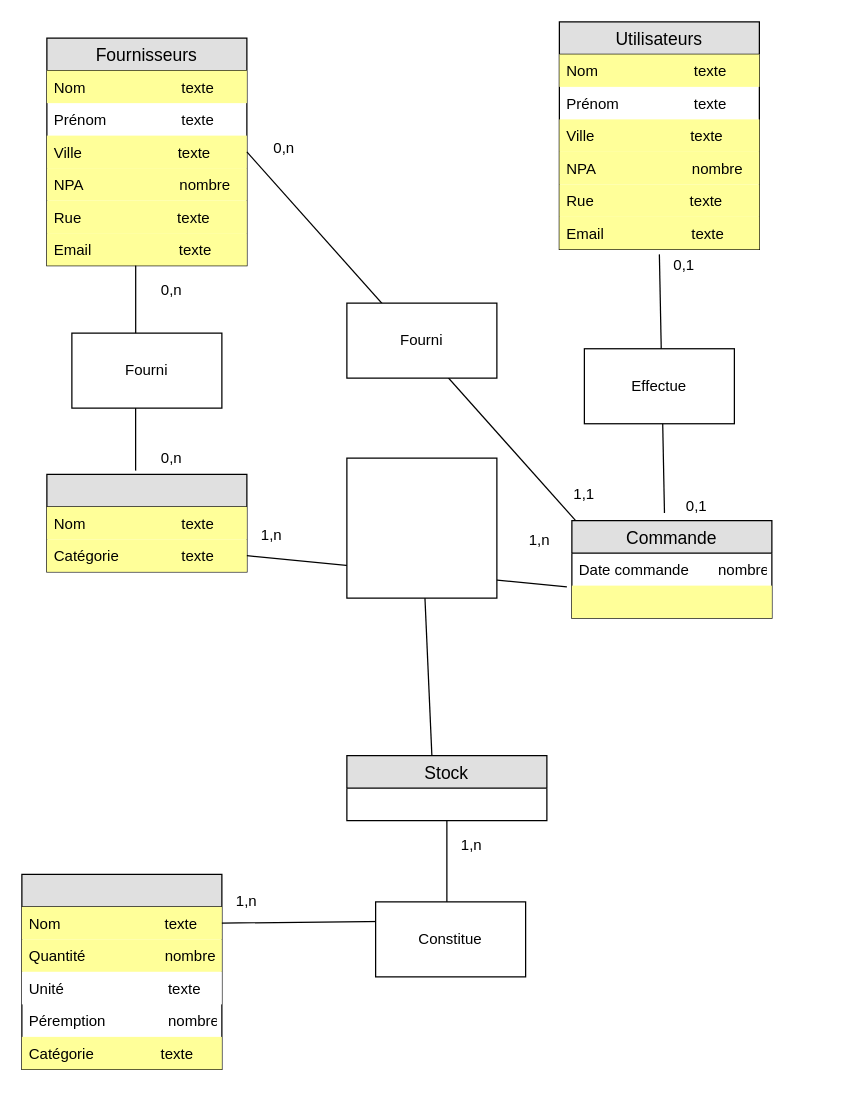
The diagram is 859 pixels wide and 1095 high, and some of its shapes have lost their labels. Each missing label, with the box of its shape:
Constitue Quantité nombre Unité texte Péremption date En stock texte: (346, 457, 497, 598)
No. commande nombre: (571, 585, 771, 618)
Produits: (46, 473, 247, 572)
Produits non fourni.: (21, 873, 222, 1069)
